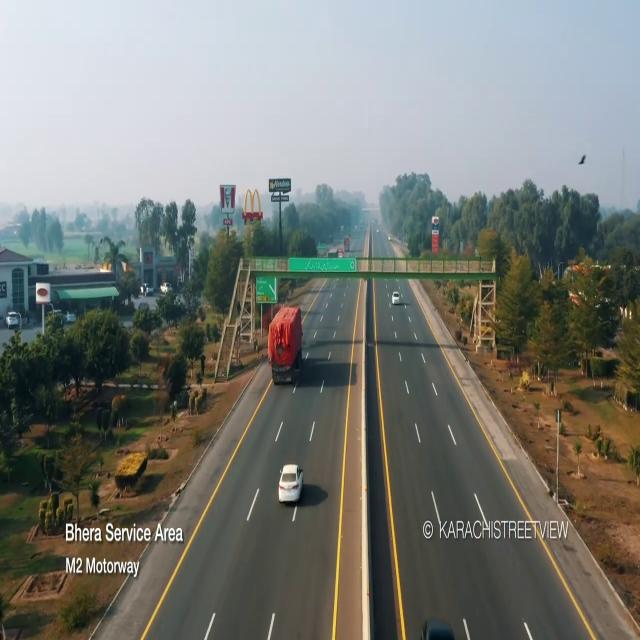car: (276, 458, 306, 508), (390, 286, 402, 306)
truck: (268, 299, 308, 392)
